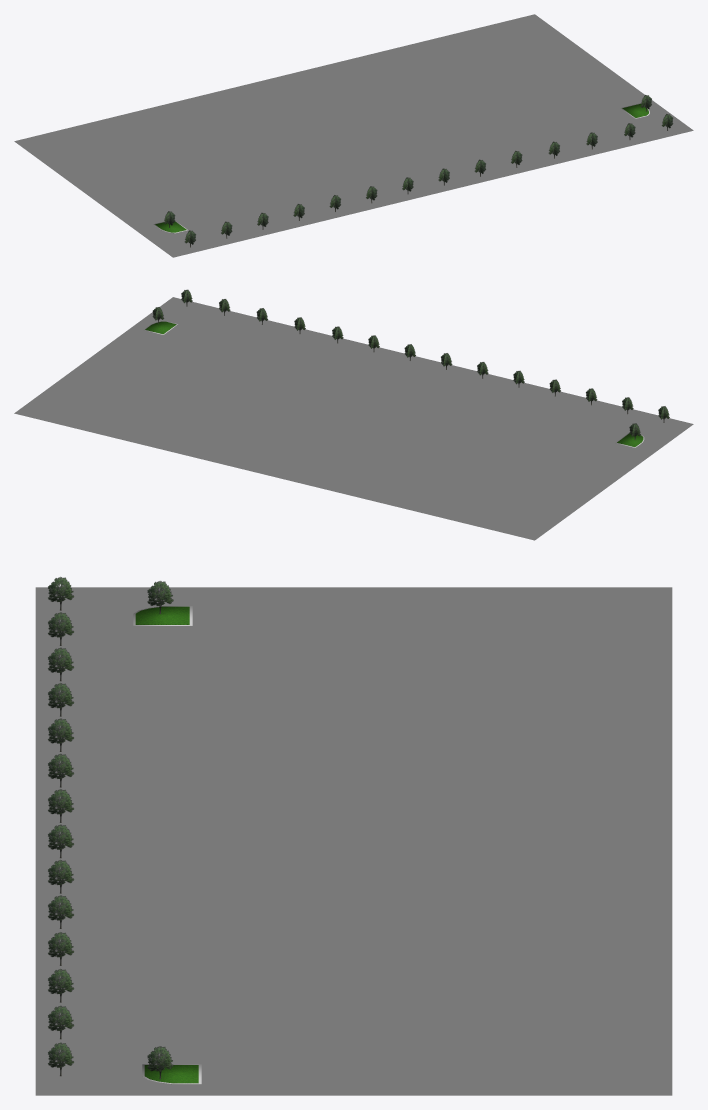
Rendered from 0f_mini.gltf.
3 views of the same model, one above another, from view 1: azimuth 30°, elevation 25°; view 2: azimuth 150°, elevation 25°; view 3: azimuth 270°, elevation 25° (orthographic). The views are drawn at different scales.
Visible parts, largest first — view 1: dimian_1; view 2: dimian_1; view 3: dimian_1, dimian_36, dimian_3.
Part boxes in pixels (x1=…): dimian_1: x1=14, y1=14, x2=693, y2=257; dimian_1: x1=14, y1=297, x2=693, y2=540; dimian_1: x1=35, y1=587, x2=672, y2=1095; dimian_36: x1=135, y1=606, x2=189, y2=624; dimian_3: x1=144, y1=1065, x2=198, y2=1083.
Bounding box in the file's own units: 386 × 13.02 × 204.
Materials: 4 (2 with a texture image).
